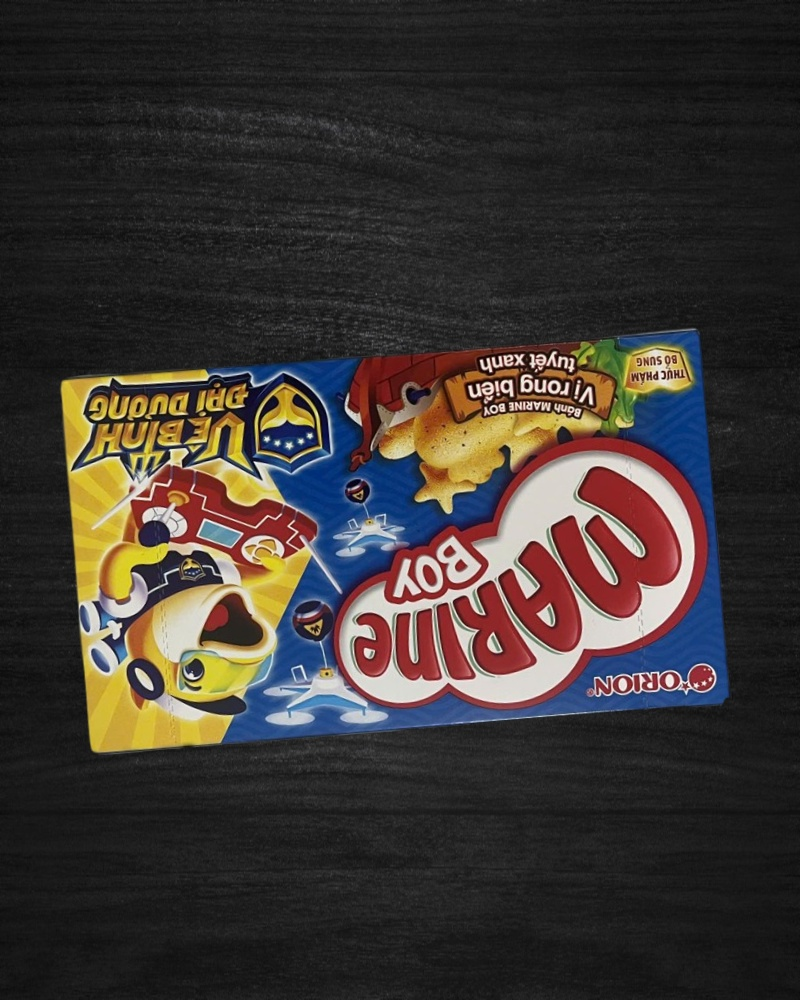Marine: (57, 323, 733, 760)
